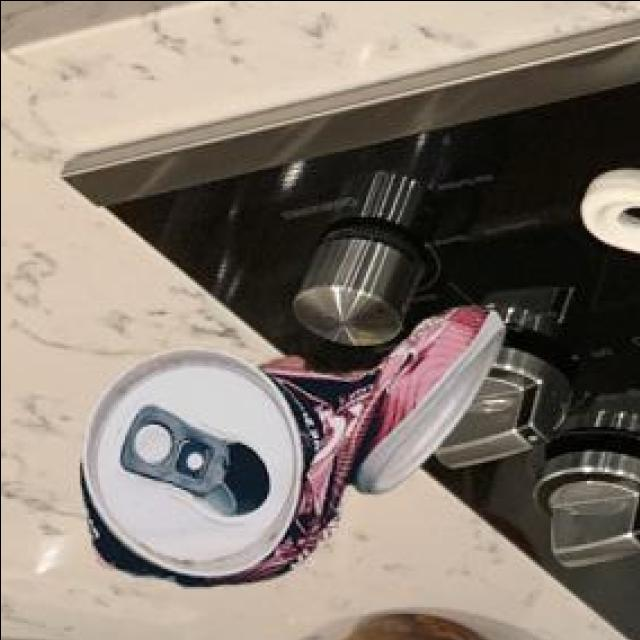logam: (82, 310, 508, 589)
